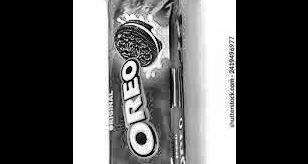snackbag: (90, 0, 209, 164)
